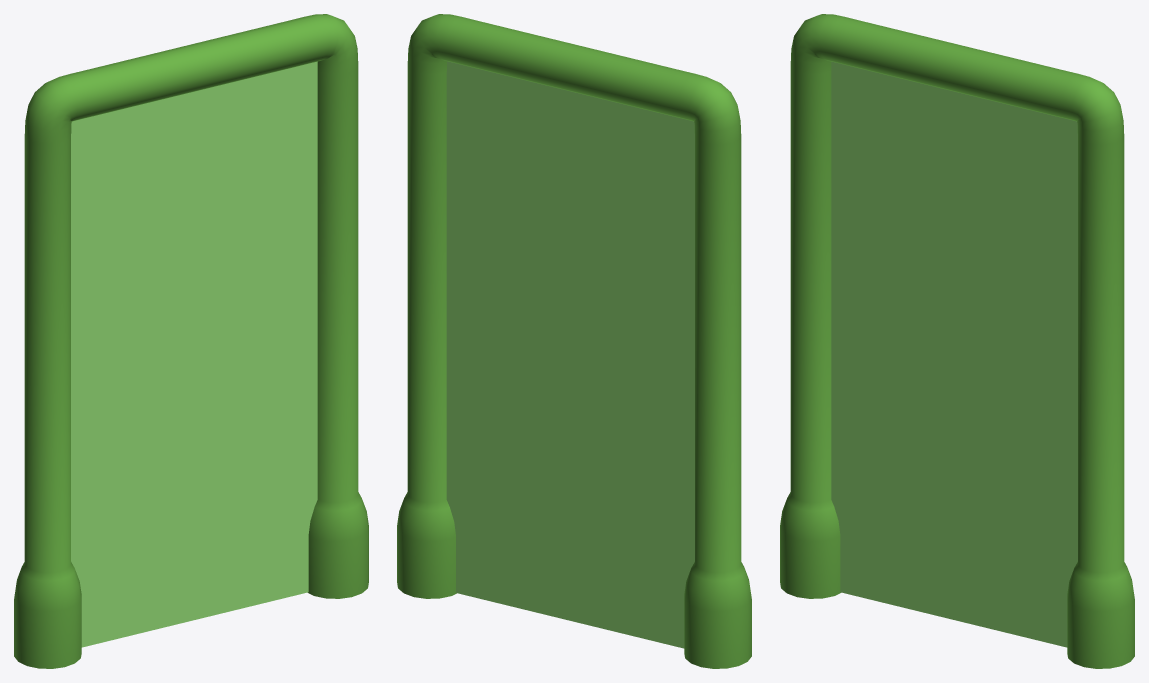
File: Doors_Green_1.fbx
The picture shows the model from 3 angles, left to right: view 1: azimuth 30°, elevation 25°; view 2: azimuth 150°, elevation 25°; view 3: azimuth 330°, elevation 25°; orthographic projection.
Visible parts, largest first — view 1: Plane.002, Doors Framework; view 2: Plane.010, Doors Framework; view 3: Plane.002, Doors Framework.
Part boxes in pixels (x1,y1,x2,y2): Plane.002: [71, 61, 317, 647]; Doors Framework: [14, 14, 368, 668]; Plane.010: [446, 61, 694, 648]; Doors Framework: [397, 14, 751, 668]; Plane.002: [831, 61, 1077, 647]; Doors Framework: [780, 14, 1134, 668].
Size of the model in its own units: 135 by 213 by 23.01.
Materials: 2 (2 with a texture image).
